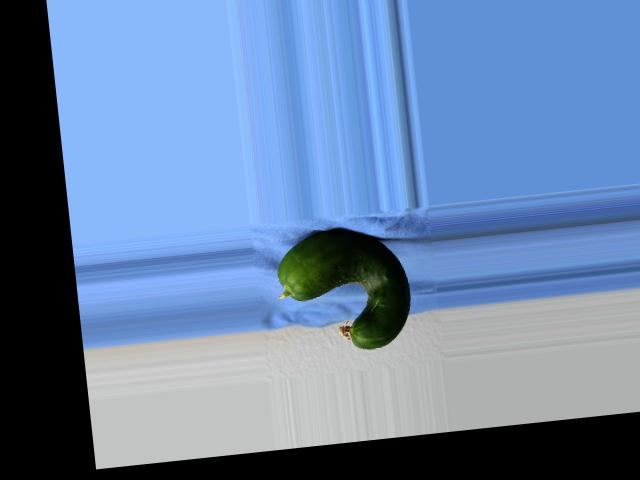cucumber: (273, 222, 415, 358)
